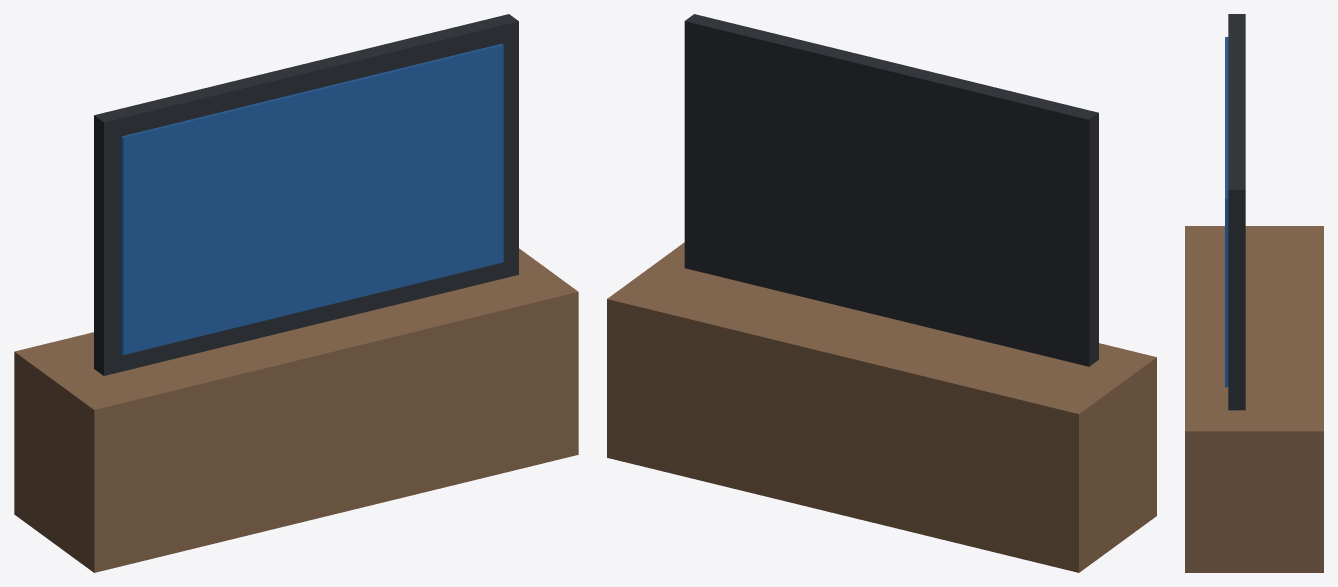
3 renders of one model, left to right at view 1: azimuth 30°, elevation 25°; view 2: azimuth 150°, elevation 25°; view 3: azimuth 270°, elevation 25°, orthographic. The views are drawn at different scales.
Parts seen in each view (by area): view 1: tv; view 2: tv; view 3: tv.
Boxes of the visible parts, x1=… form: tv: x1=14, y1=14, x2=578, y2=572; tv: x1=607, y1=14, x2=1156, y2=572; tv: x1=1185, y1=14, x2=1323, y2=572.
Bounding box in the file's own units: 1.4 × 1.17 × 0.4.
